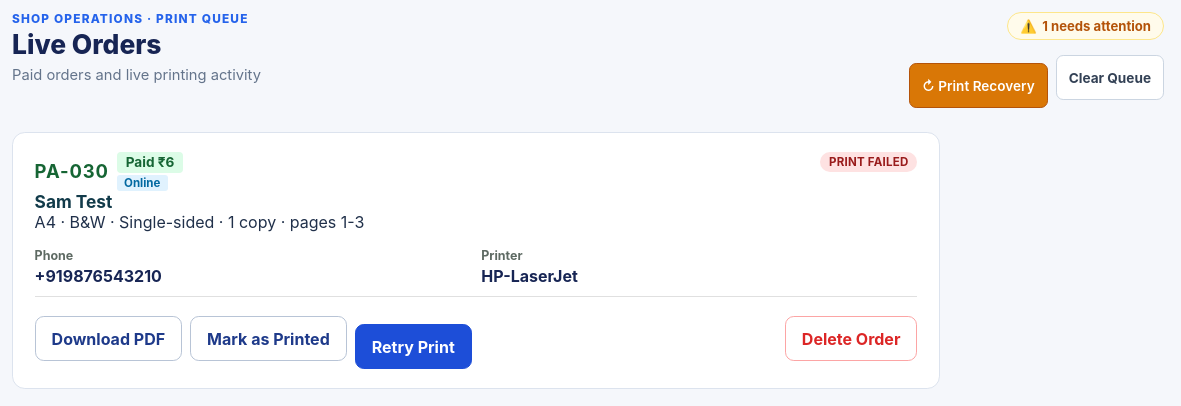
Test case: Admin LiveOrdersPage — Compact Redesign › removes order card immediately and displays success notice when Mark as Printed succeeds
The image size is (1181, 406).
Check: the text "PA-030" is shown, box [35, 160, 109, 182]
Check: the heading "Sam Test" is shown, box [35, 191, 112, 212]
Click the button "Mark as Printed". click: (268, 339)
box: [190, 316, 347, 361]
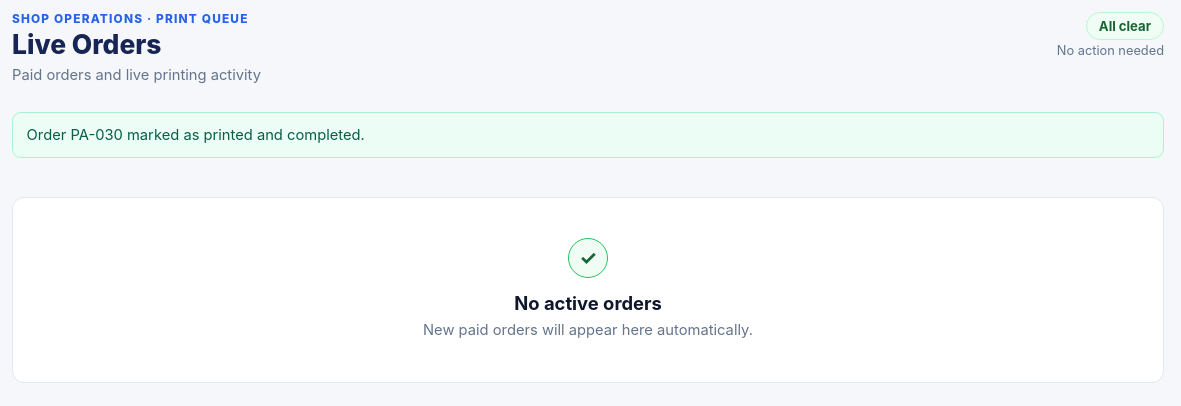
Check: the heading "Sam Test" is gone
Check: the text "Order PA-030 marked as printed and completed." is shown, box [12, 112, 1164, 158]
